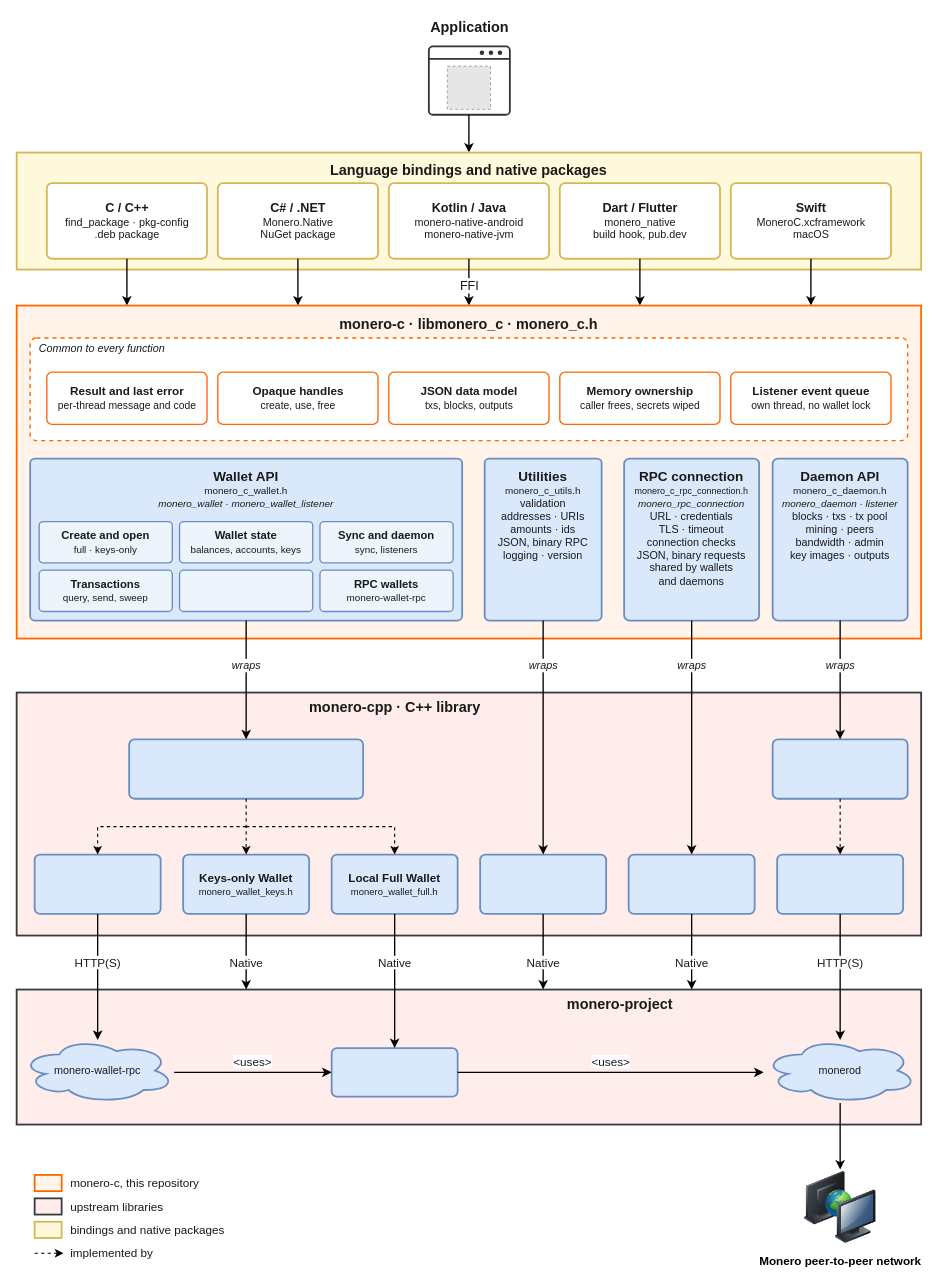
The diagram is 945 pixels wide and 1285 high, and some of its shapes have lost their labels. Grey dashed boxes stand in for pictures. Each missing label, with the centre of its shape:
Daemon Interface monero_daemon.h: the point at 839,768
Daemon RPC Client monero_daemon_rpc.h: the point at 840,883
Monero Utilities monero_utils.h: the point at 543,883
Multisig make, exchange, sign: the point at 245,590
RPC Connection monero_rpc_connection.h: the point at 691,883
Wallet Interface monero_wallet.h: the point at 246,768
Wallet RPC Client monero_wallet_rpc.h: the point at 97,883
wallet2 wallet2.cpp: the point at 394,1072
